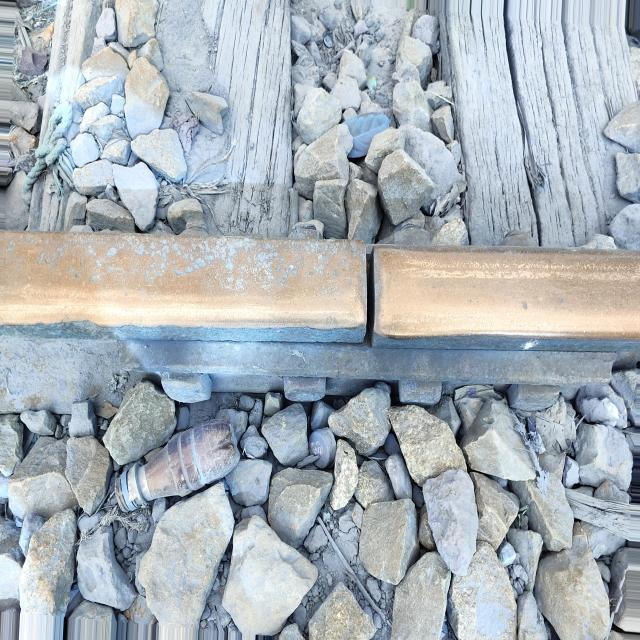Good Joint: (137, 337, 618, 415)
